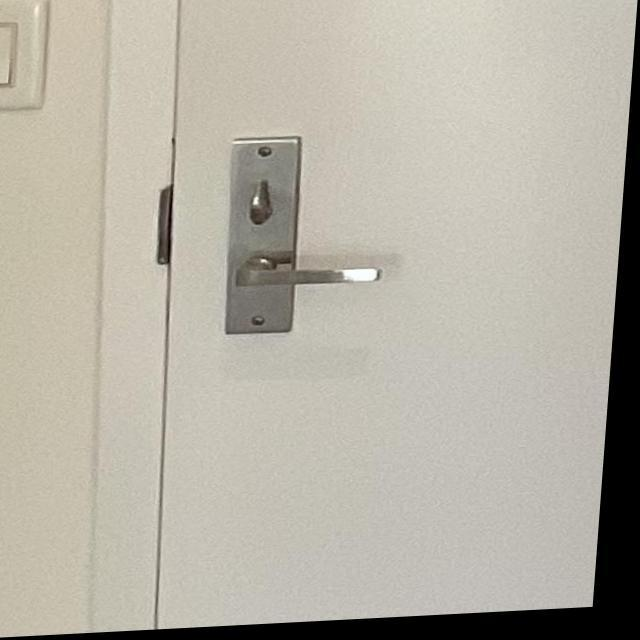door_handle: (217, 247, 404, 305)
